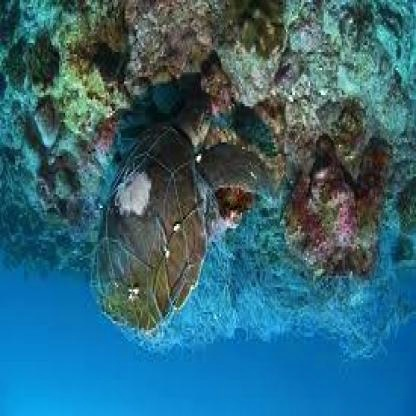net: (100, 117, 416, 359)
